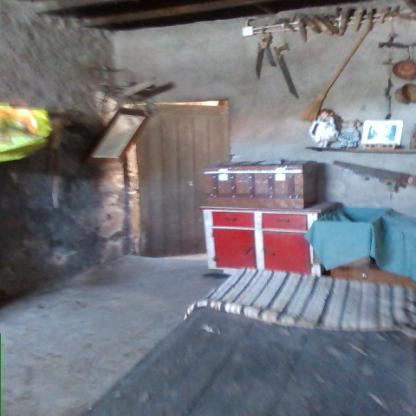semi: (115, 89, 239, 277)
